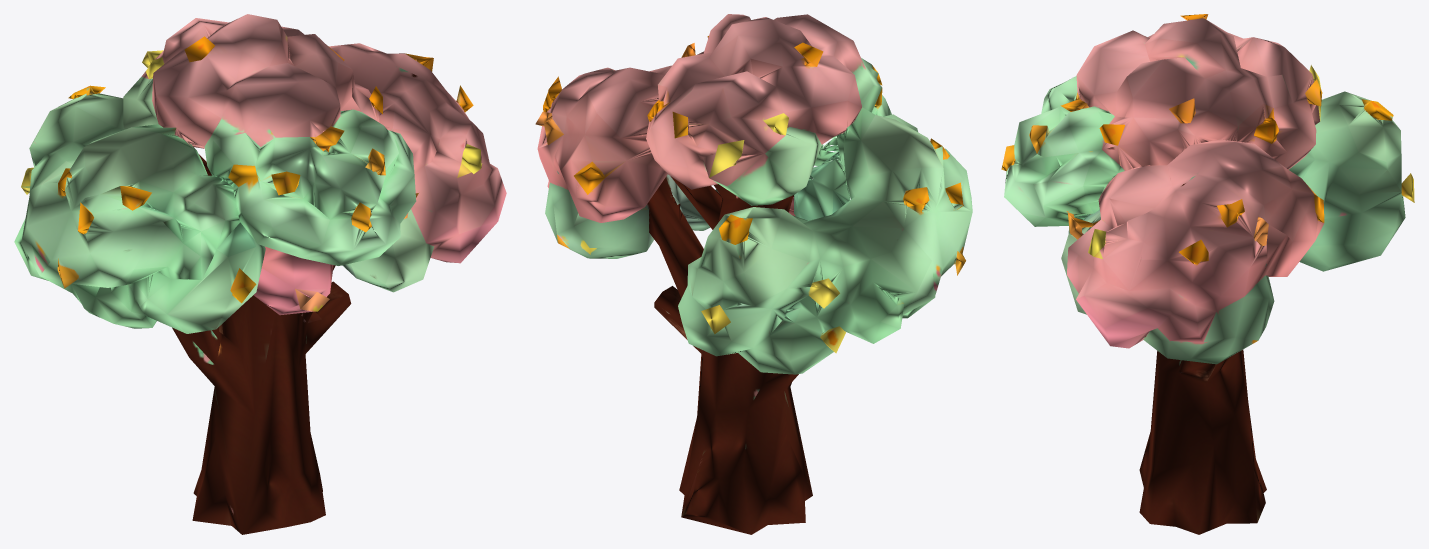
File: candy_tree.glb
3 renders of one model, left to right at view 1: azimuth 30°, elevation 25°; view 2: azimuth 150°, elevation 25°; view 3: azimuth 270°, elevation 25°, orthographic. The views are drawn at different scales.
Visible parts, largest first — view 1: bdec_dz5a94fj.glb; view 2: bdec_dz5a94fj.glb; view 3: bdec_dz5a94fj.glb.
Boxes of the visible parts, bbox=[...] form: bdec_dz5a94fj.glb: bbox=[14, 14, 506, 534]; bdec_dz5a94fj.glb: bbox=[535, 14, 972, 534]; bdec_dz5a94fj.glb: bbox=[1001, 14, 1414, 534].
Size of the model in its own units: 0.8723 by 0.9714 by 0.7605.
1 material, 1 textured.
